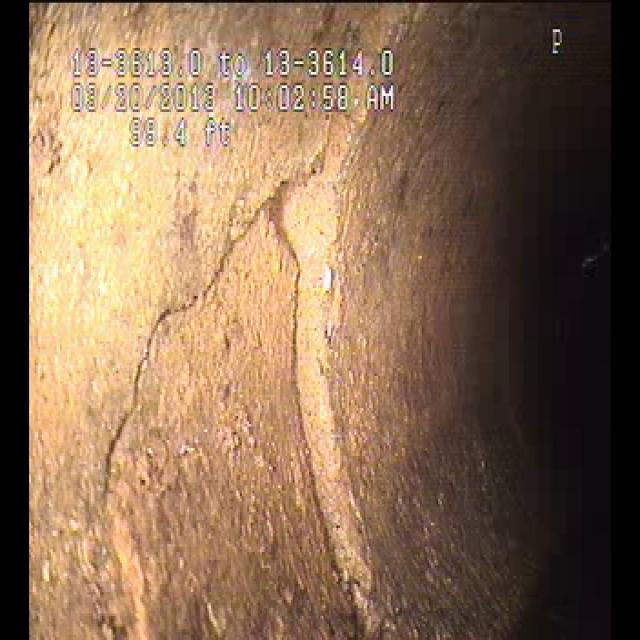Crack: (100, 201, 236, 484)
